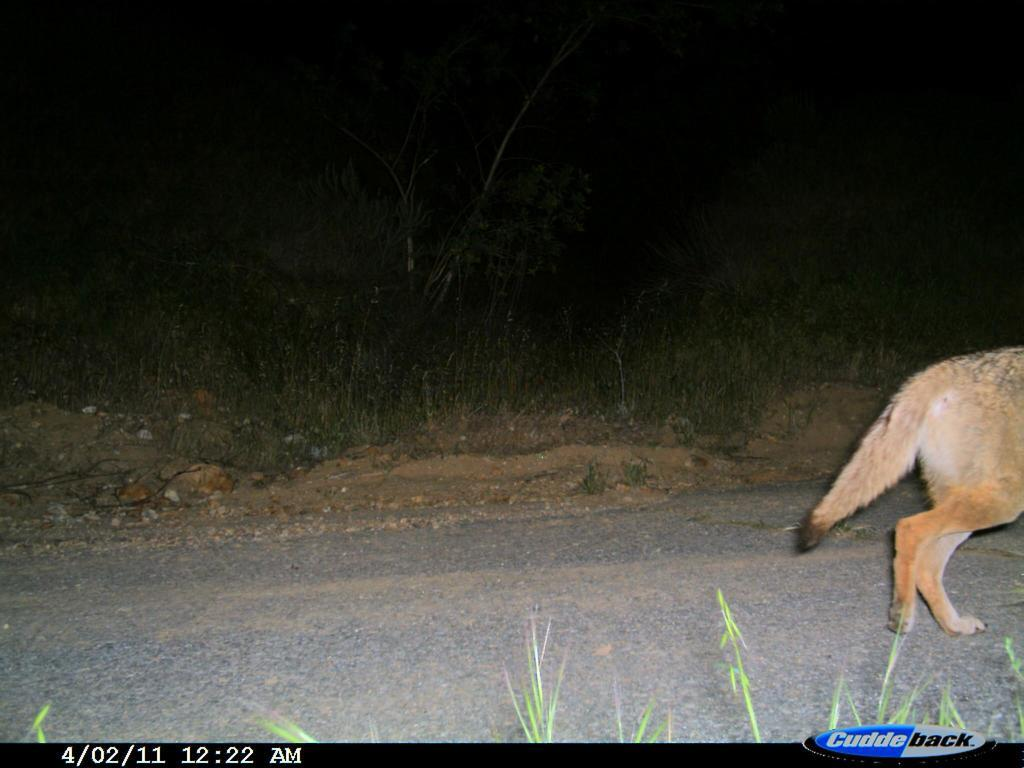coyote: (793, 332, 1023, 643)
